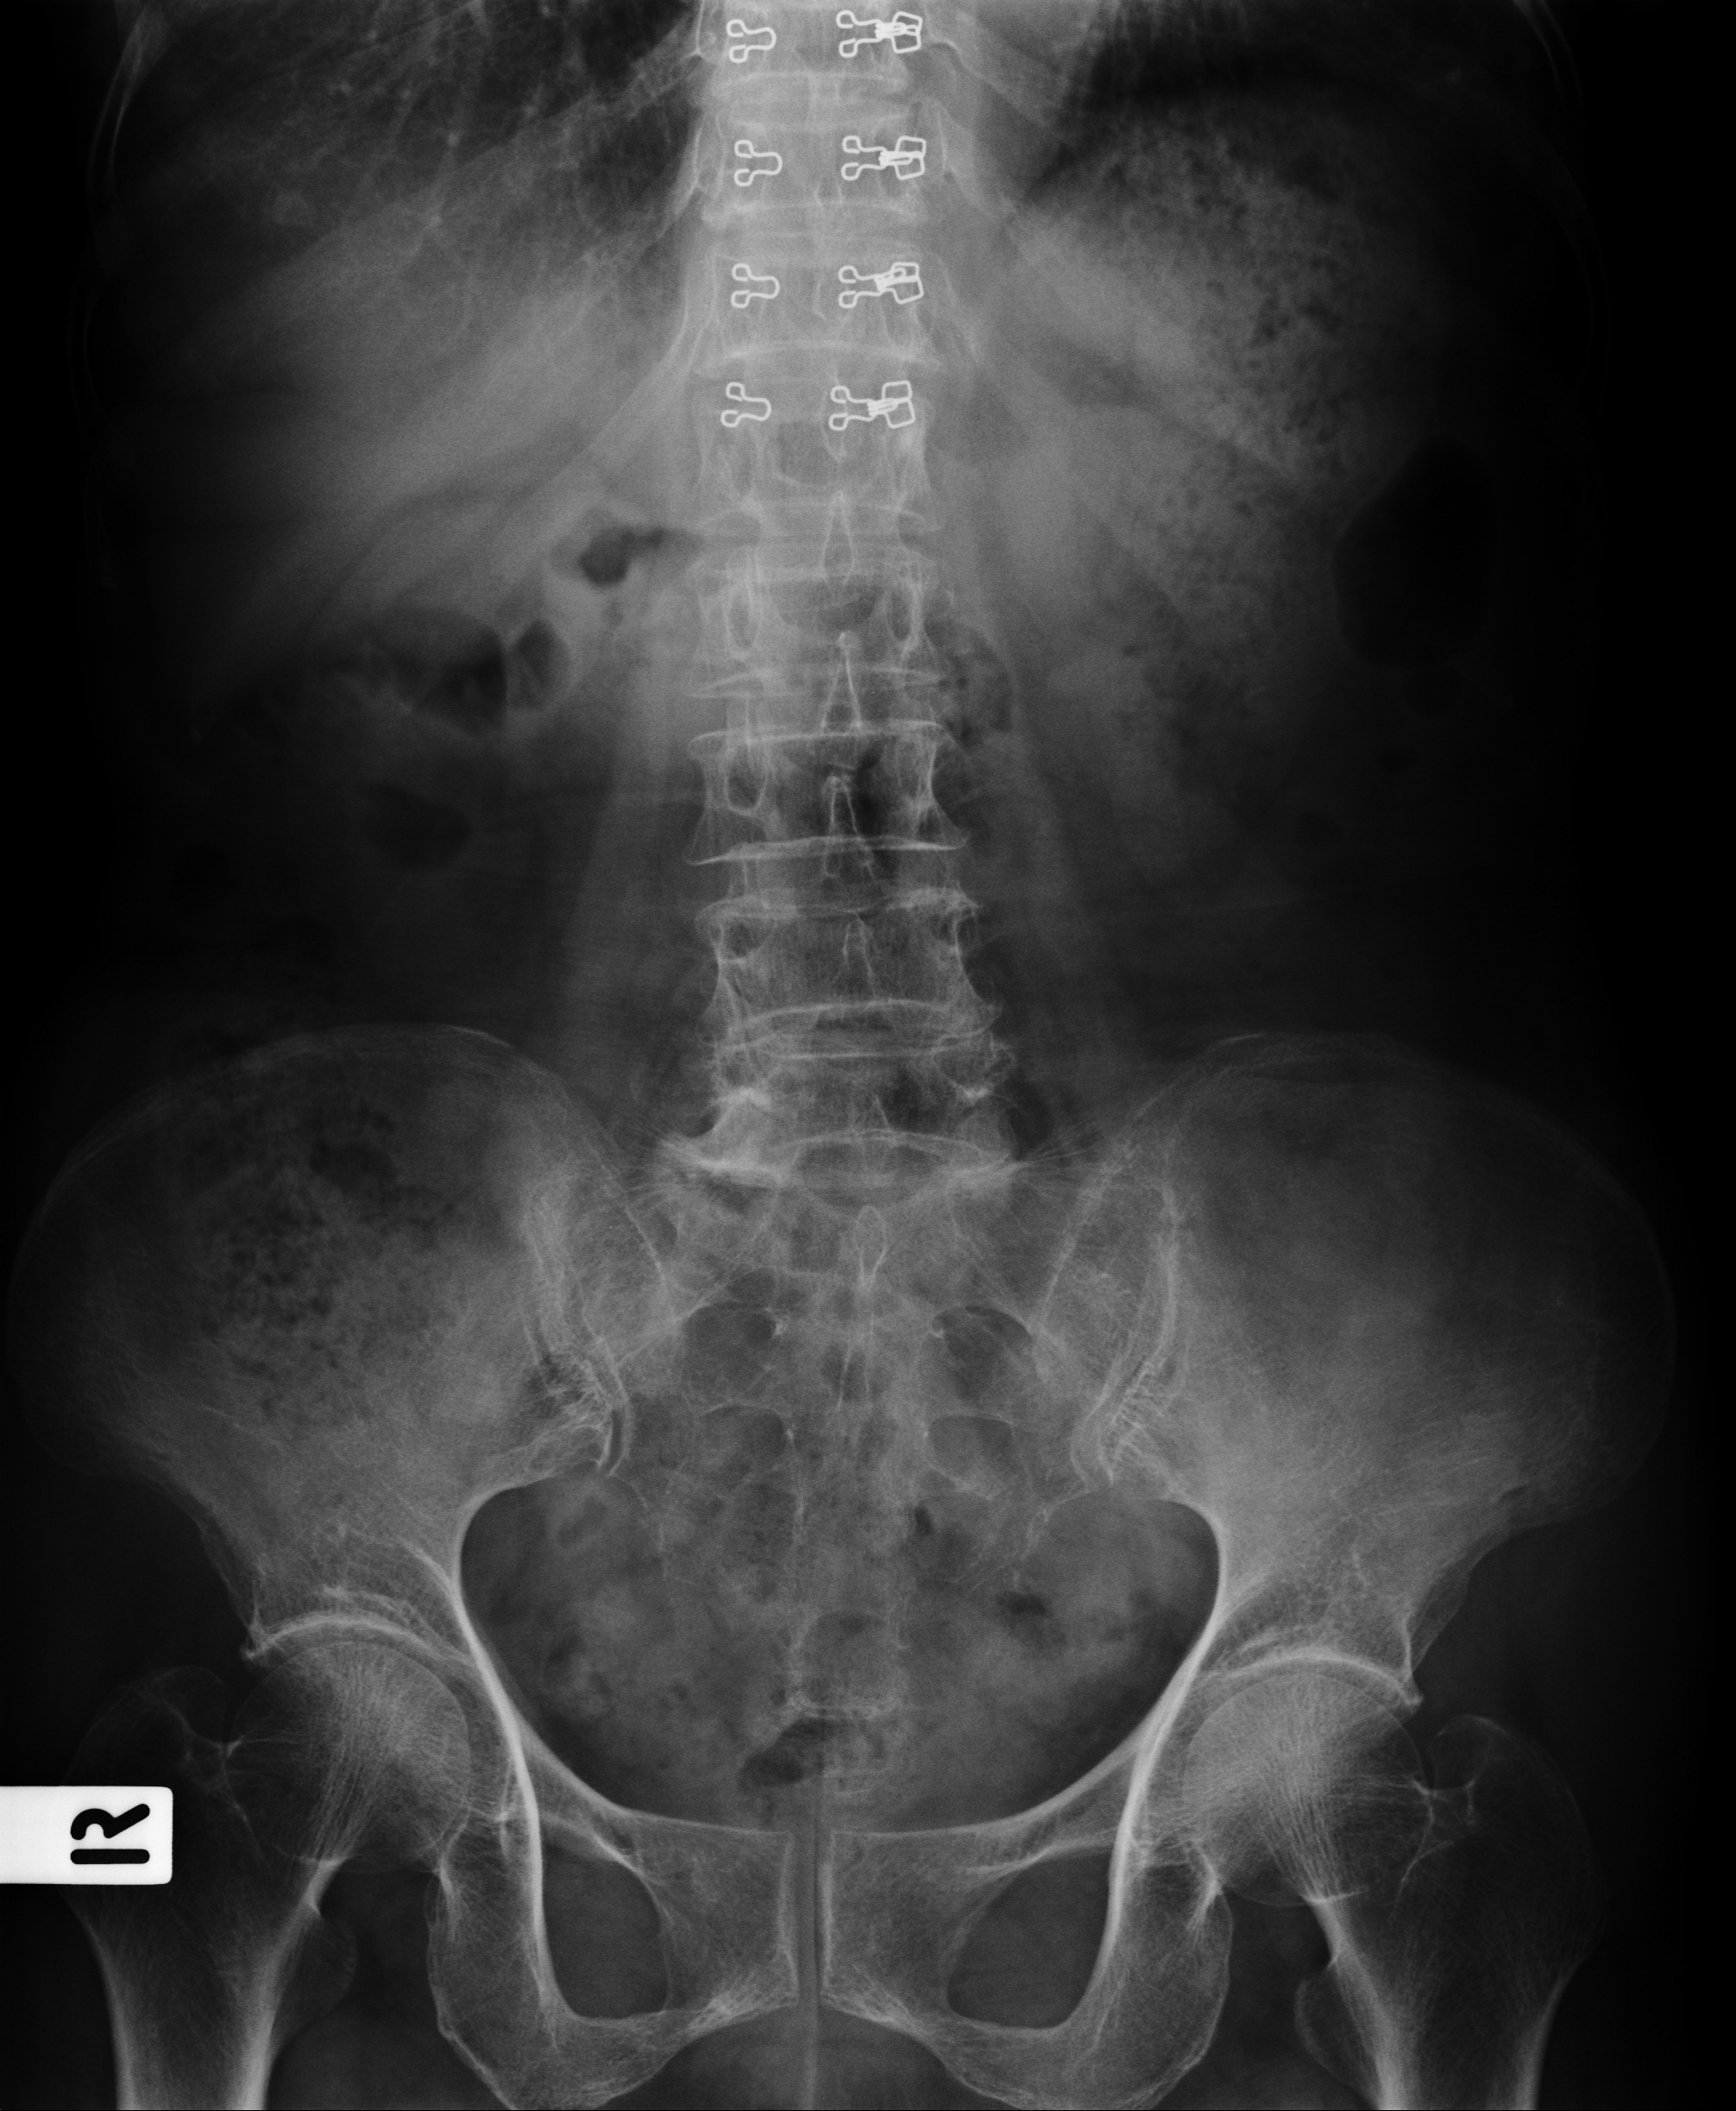lumbar scoliosis: (661, 18, 1024, 1210)
